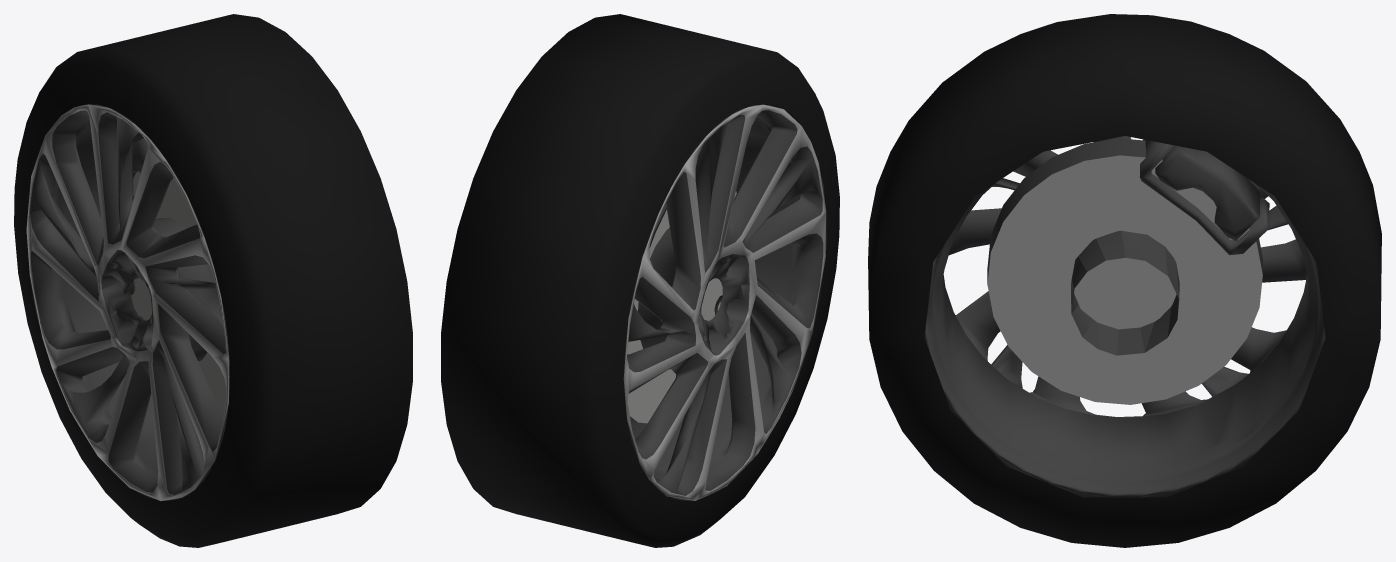
File: cartypewheel2model.obj
The picture shows the model from 3 angles, left to right: view 1: azimuth 30°, elevation 25°; view 2: azimuth 150°, elevation 25°; view 3: azimuth 270°, elevation 25°; orthographic projection.
Parts seen in each view (by area): view 1: Wheel_BMW+i8.005; view 2: Wheel_BMW+i8.005; view 3: Wheel_BMW+i8.005.
Part boxes in pixels (x1,y1,x2,y2): Wheel_BMW+i8.005: [14, 14, 412, 547]; Wheel_BMW+i8.005: [441, 14, 839, 547]; Wheel_BMW+i8.005: [868, 14, 1381, 547].
Bounding box in the file's own units: 0.2641 × 0.7111 × 0.7109.
